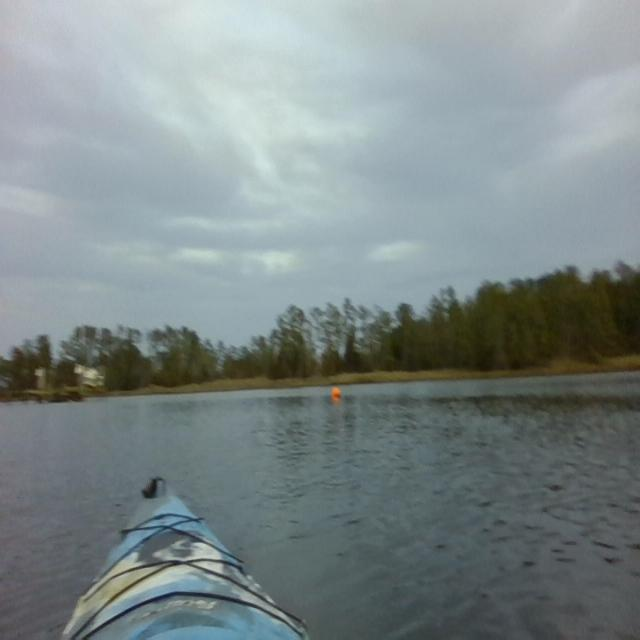Buoy: (331, 381, 342, 401)
